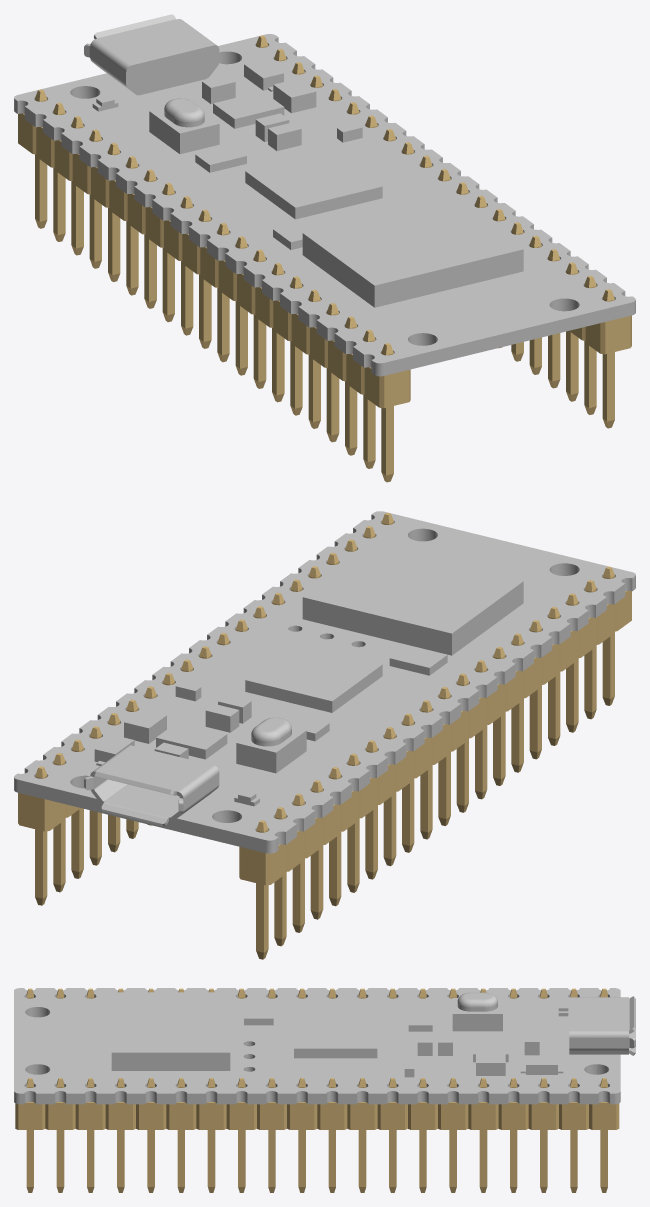
File: kc-raspberrypi_pico_w_addedheaders_h2.54mm.glb
3 views of the same model, one above another, from view 1: azimuth 30°, elevation 25°; view 2: azimuth 150°, elevation 25°; view 3: azimuth 270°, elevation 25° (orthographic). The views are drawn at different scales.
Parts seen in each view (by area): view 1: 0.5833333333333334_0.5833333333333334_0.5833333333333334_0.8, 0.75_0.5_0.25_0.9; view 2: 0.5833333333333334_0.5833333333333334_0.5833333333333334_0.8, 0.75_0.5_0.25_0.9; view 3: 0.5833333333333334_0.5833333333333334_0.5833333333333334_0.8, 0.75_0.5_0.25_0.9.
Boxes of the visible parts, left/top/right/bottom form: 0.5833333333333334_0.5833333333333334_0.5833333333333334_0.8: left=14, top=14, right=635, bottom=376; 0.75_0.5_0.25_0.9: left=18, top=35, right=631, bottom=482; 0.5833333333333334_0.5833333333333334_0.5833333333333334_0.8: left=14, top=511, right=635, bottom=853; 0.75_0.5_0.25_0.9: left=18, top=512, right=631, bottom=959; 0.5833333333333334_0.5833333333333334_0.5833333333333334_0.8: left=14, top=988, right=635, bottom=1104; 0.75_0.5_0.25_0.9: left=15, top=988, right=619, bottom=1192.
Size of the model in its own units: 2.1 by 1.26 by 5.23.
